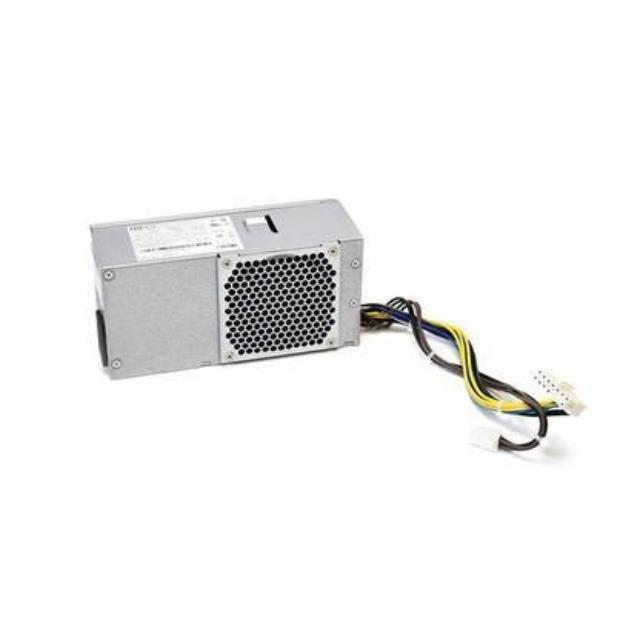PSU: (81, 186, 379, 400)
